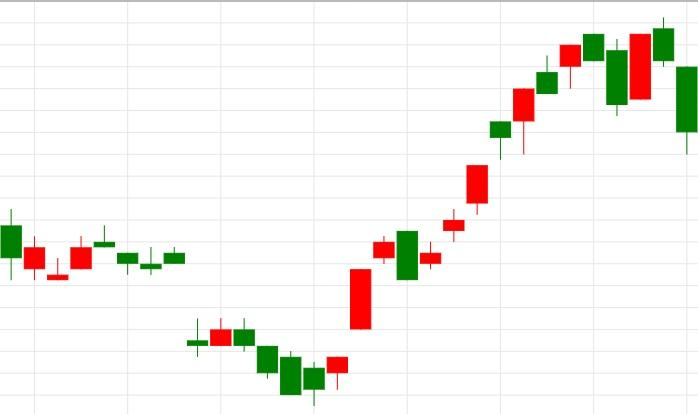bearish_engulfing_fall: (302, 231, 419, 406)
